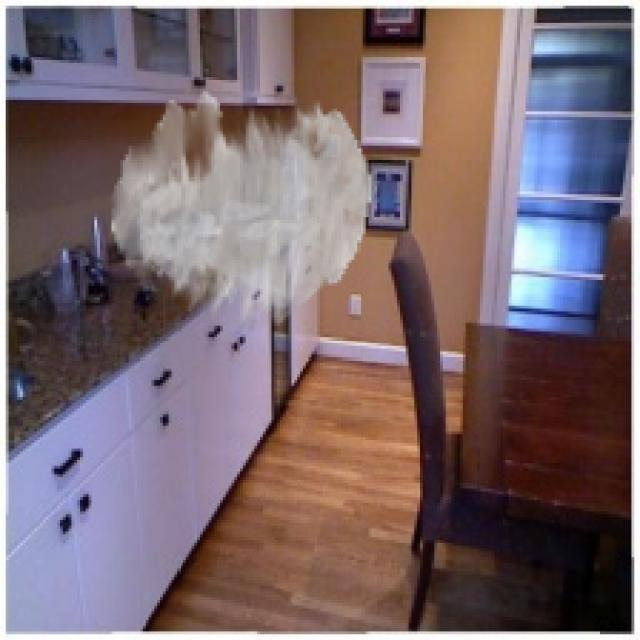Smoke: (111, 92, 372, 328)
